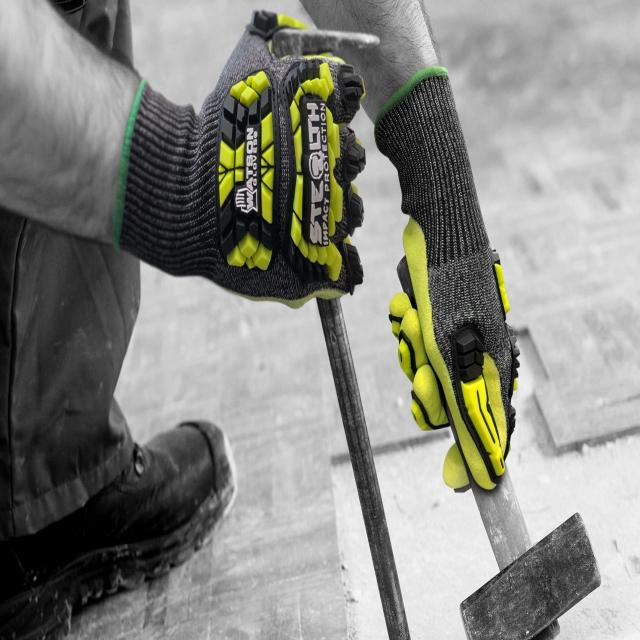gloves: (110, 12, 367, 312), (376, 65, 522, 492)
